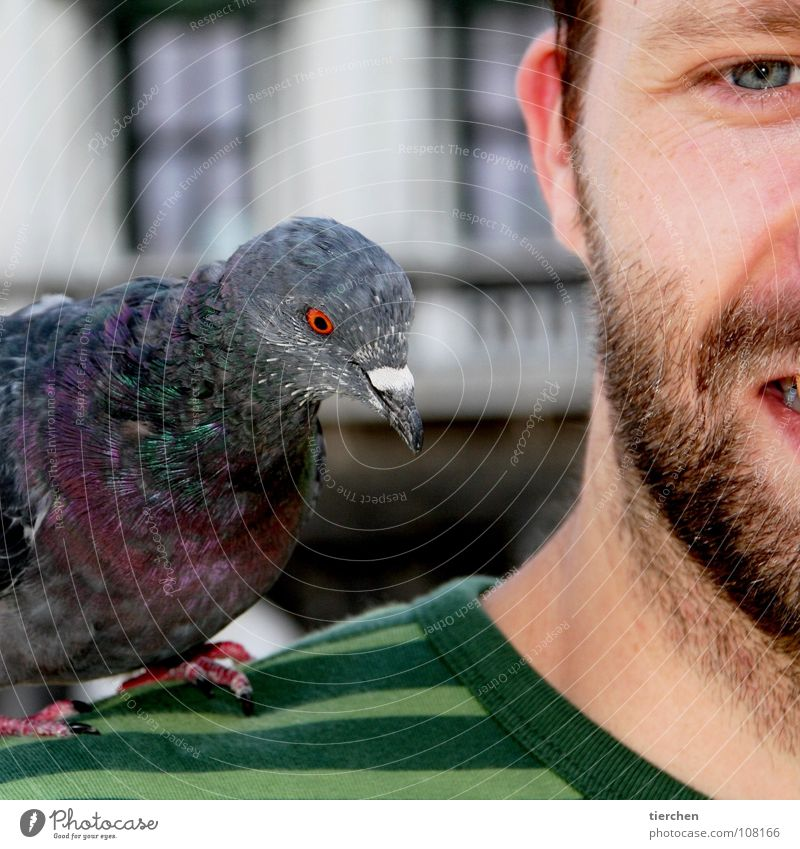Flying Rat: (1, 210, 421, 725)
